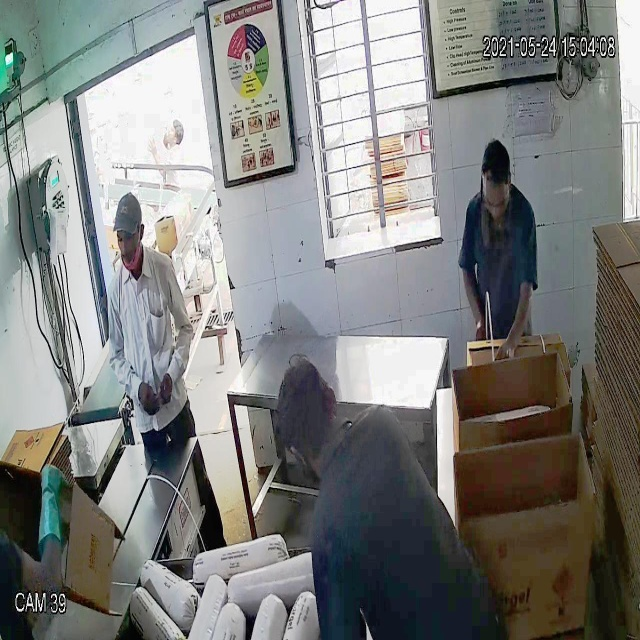Sin_gafas: (114, 227, 141, 252)
